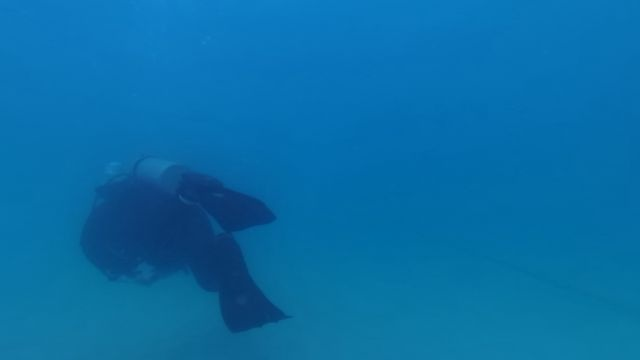Diver: (76, 149, 296, 338)
